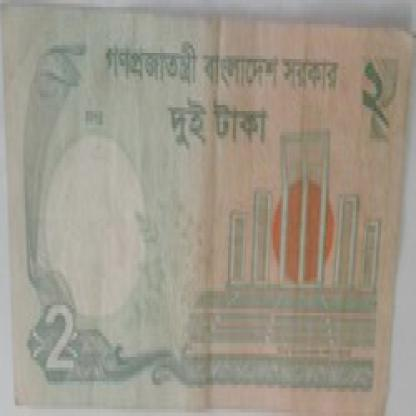two taka: (160, 94, 276, 149), (351, 52, 398, 135)
